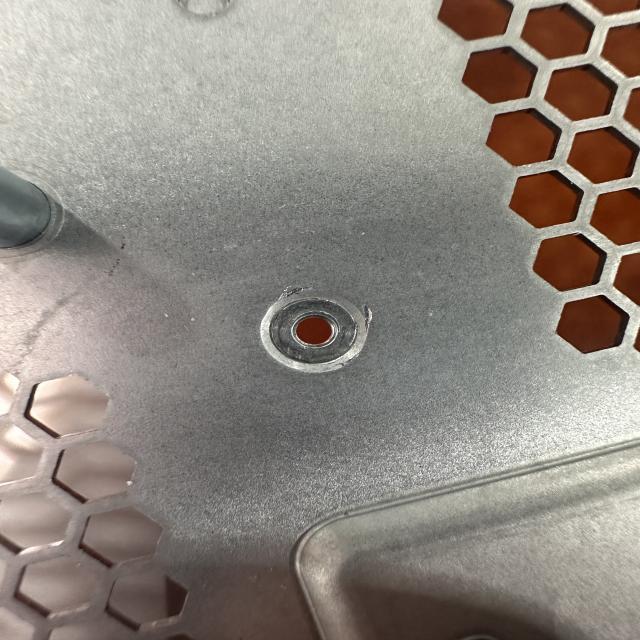Missing screw: (245, 284, 390, 378)
